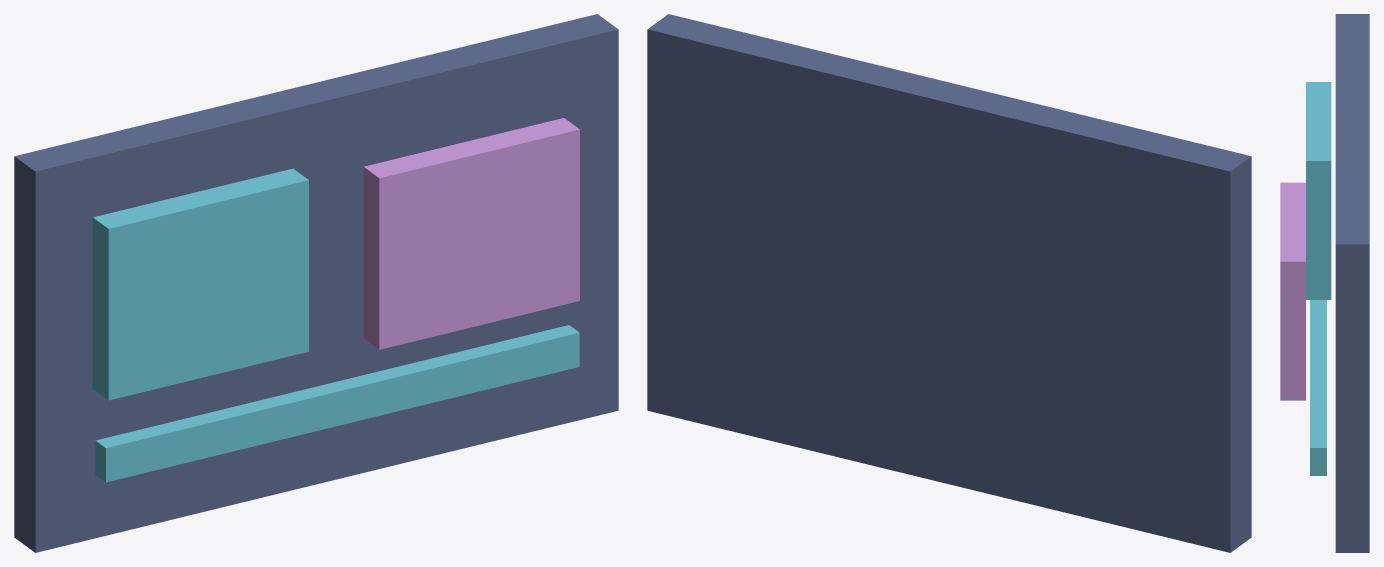
File: saas-low.glb
The picture shows the model from 3 angles, left to right: view 1: azimuth 30°, elevation 25°; view 2: azimuth 150°, elevation 25°; view 3: azimuth 270°, elevation 25°; orthographic projection. The views are drawn at different scales.
Parts seen in each view (by area): view 1: screen, card-left, card-right, bar; view 2: screen; view 3: screen, card-right, card-left, bar.
Boxes of the visible parts, bbox=[...] form: screen: bbox=[14, 14, 618, 552]; card-left: bbox=[92, 168, 308, 400]; card-right: bbox=[363, 118, 579, 349]; bar: bbox=[95, 325, 579, 482]; screen: bbox=[647, 14, 1251, 552]; screen: bbox=[1335, 14, 1369, 552]; card-right: bbox=[1280, 182, 1305, 400]; card-left: bbox=[1306, 82, 1331, 299]; bar: bbox=[1310, 300, 1326, 475].
Bounding box in the file's own units: 3.2 × 2 × 0.525.
